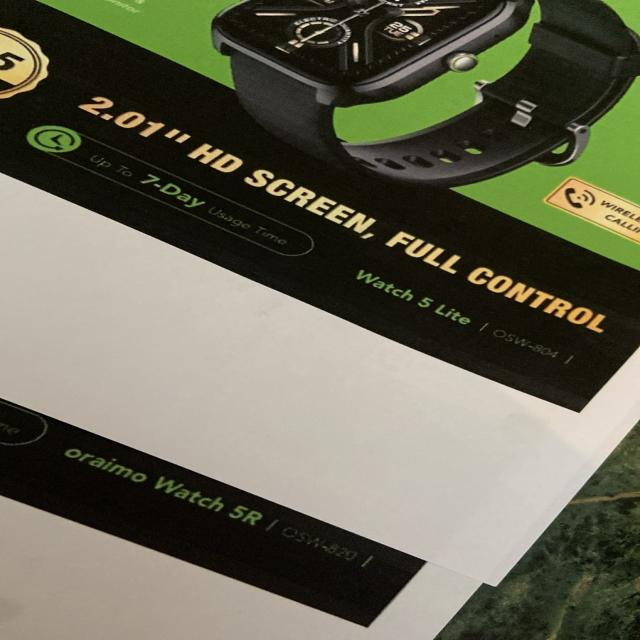Oraimo Watch 5R OSW-820: (51, 437, 385, 574)
Watch 5 Lite OSW-804: (338, 259, 588, 373)
